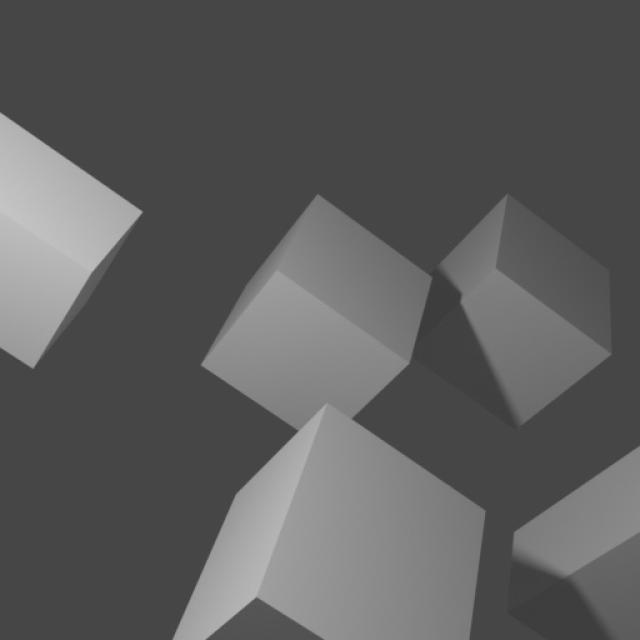Cube: (170, 402, 487, 640), (202, 195, 430, 433), (410, 197, 612, 430), (0, 113, 144, 373), (512, 448, 640, 640)
